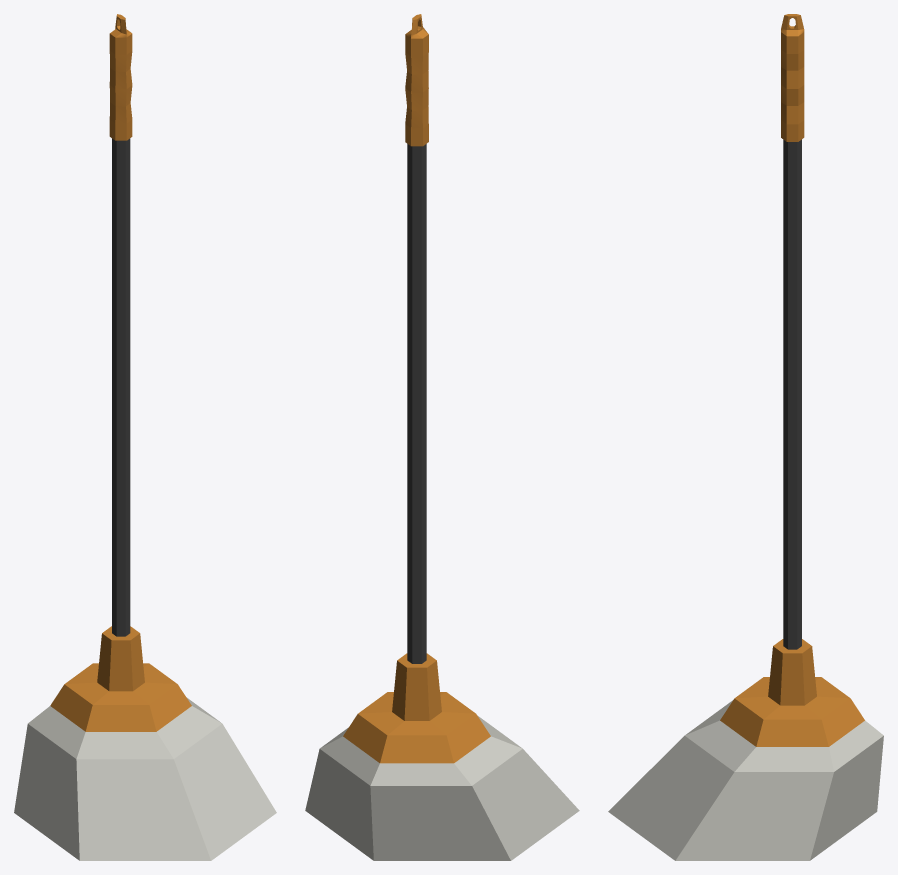
File: cleaning_mop.obj
The picture shows the model from 3 angles, left to right: view 1: azimuth 30°, elevation 25°; view 2: azimuth 150°, elevation 25°; view 3: azimuth 270°, elevation 25°; orthographic projection. The views are drawn at different scales.
Visible parts, largest first — view 1: Bucket_Cube, Bucket_Cube_1, Bucket_Cube_2; view 2: Bucket_Cube, Bucket_Cube_1, Bucket_Cube_2; view 3: Bucket_Cube, Bucket_Cube_1, Bucket_Cube_2.
Part boxes in pixels (left/top/right/bottom): Bucket_Cube: left=14, top=697, right=276, bottom=860; Bucket_Cube_1: left=50, top=14, right=191, bottom=731; Bucket_Cube_2: left=112, top=138, right=130, bottom=636; Bucket_Cube: left=305, top=715, right=579, bottom=860; Bucket_Cube_1: left=343, top=14, right=490, bottom=763; Bucket_Cube_2: left=407, top=144, right=426, bottom=663; Bucket_Cube: left=608, top=700, right=883, bottom=860; Bucket_Cube_1: left=720, top=14, right=864, bottom=746; Bucket_Cube_2: left=783, top=139, right=801, bottom=649.
Bounding box in the file's own units: 0.6709 × 2.53 × 0.7942.
